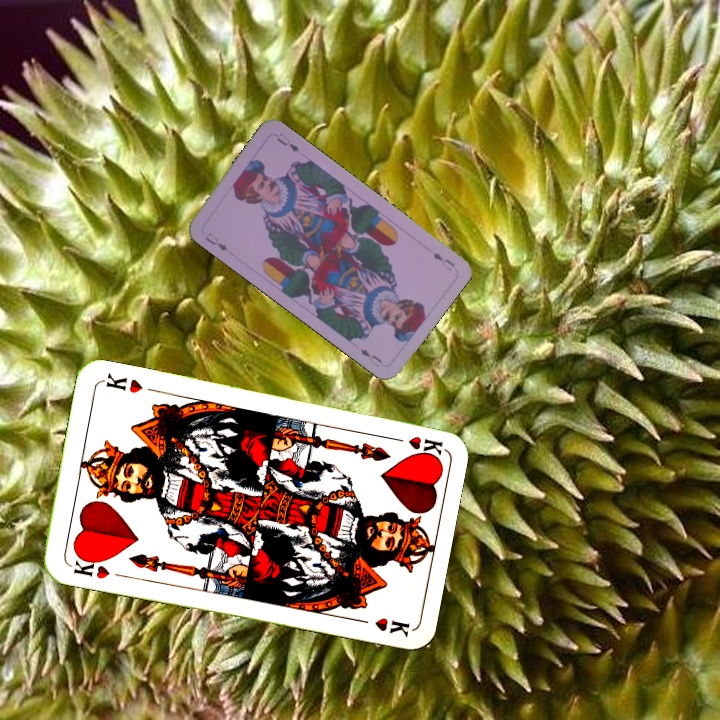EU: (428, 248, 457, 274), (201, 229, 230, 254)
HK: (385, 432, 444, 458), (66, 551, 113, 582)
